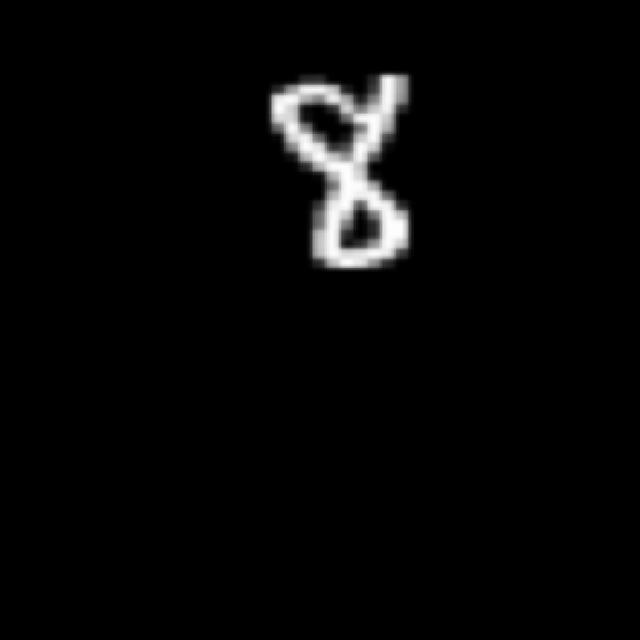eight -8-: (258, 62, 433, 276)
